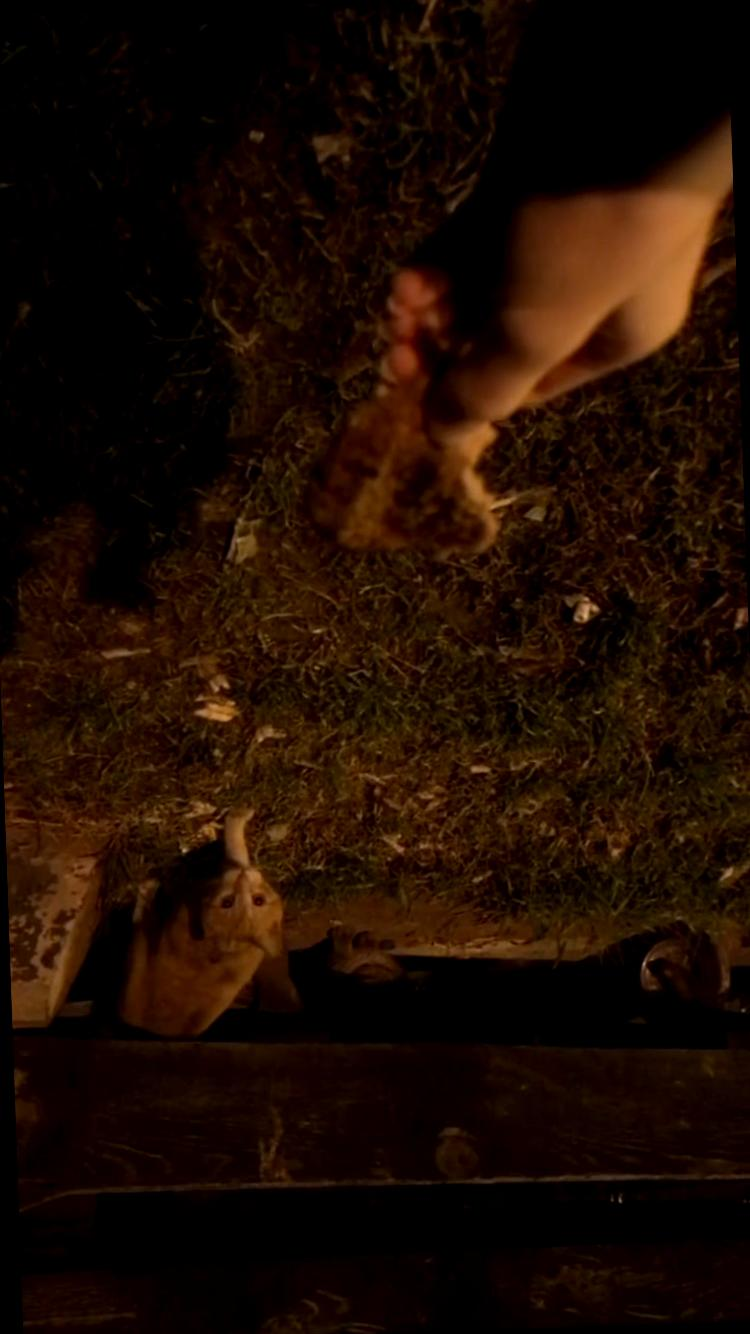macka: (111, 808, 286, 1044)
